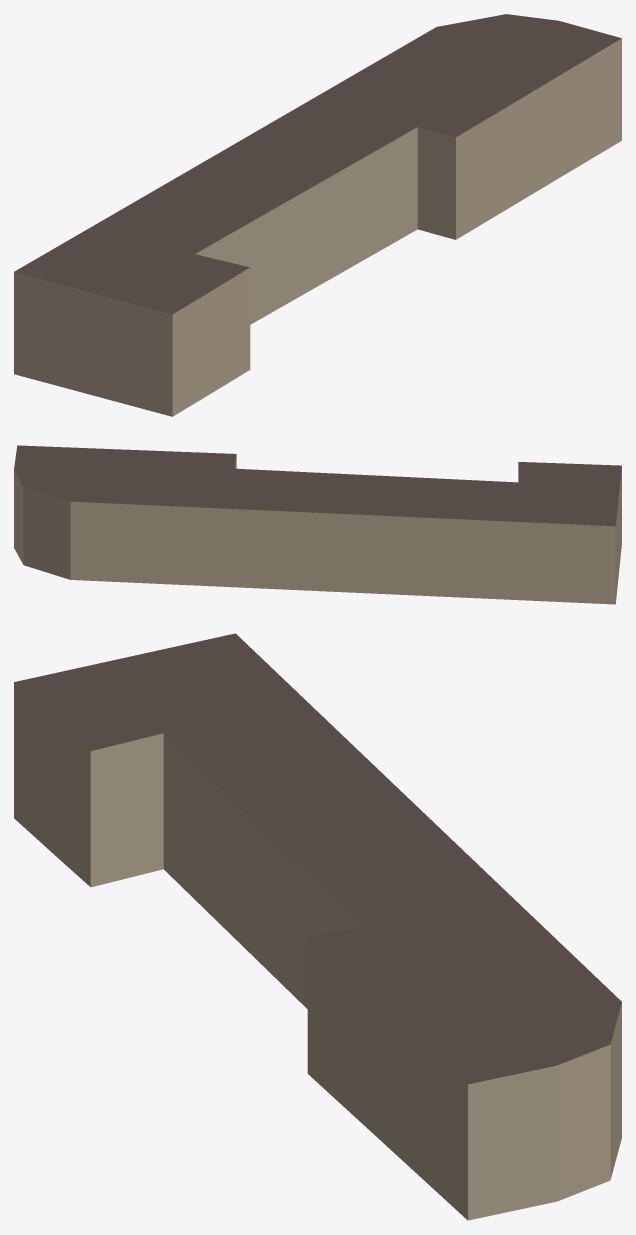
The picture shows the model from 3 angles, top to bottom: view 1: azimuth 30°, elevation 25°; view 2: azimuth 150°, elevation 25°; view 3: azimuth 270°, elevation 25°; orthographic projection. The views are drawn at different scales.
Parts seen in each view (by area): view 1: HP-w1196726536; view 2: HP-w1196726536; view 3: HP-w1196726536.
Part boxes in pixels (box(x1,y1,x2,y2)): HP-w1196726536: box(14, 14, 621, 416); HP-w1196726536: box(14, 445, 621, 604); HP-w1196726536: box(14, 633, 621, 1220).
Size of the model in its own units: 63.96 by 9 by 36.43.
